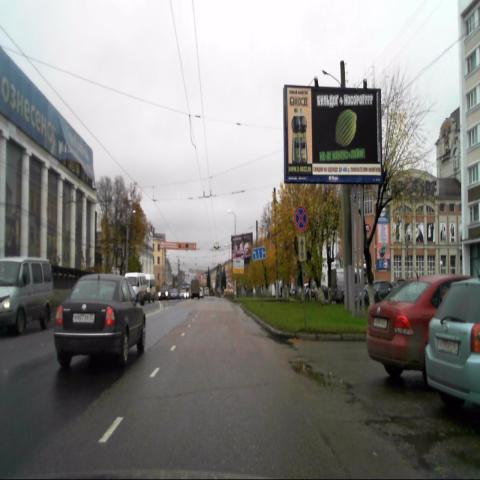3_27: (294, 206, 308, 232)
